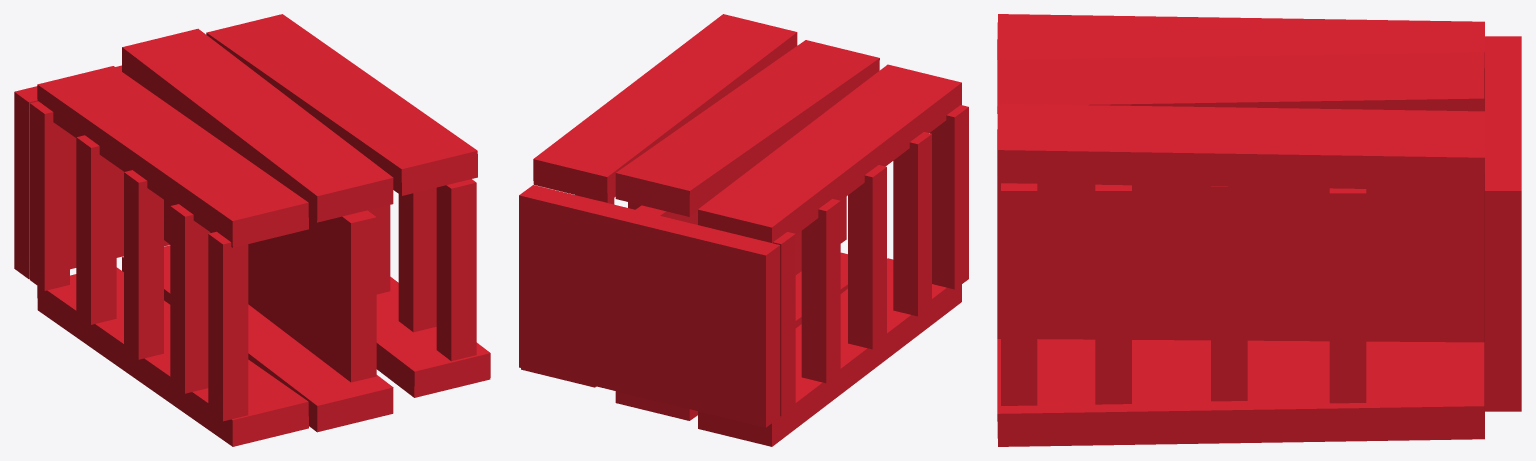
The model's file is tinker.obj.
3 renders of one model, left to right at view 1: azimuth 30°, elevation 25°; view 2: azimuth 150°, elevation 25°; view 3: azimuth 270°, elevation 25°, orthographic. The views are drawn at different scales.
Visible parts, largest first — view 1: obj_0; view 2: obj_0; view 3: obj_0.
Part boxes in pixels (left/top/right/bottom): obj_0: left=14, top=14, right=490, bottom=446; obj_0: left=519, top=14, right=968, bottom=446; obj_0: left=997, top=14, right=1521, bottom=446.
Size of the model in its own units: 12.6 by 10.96 by 17.22.
